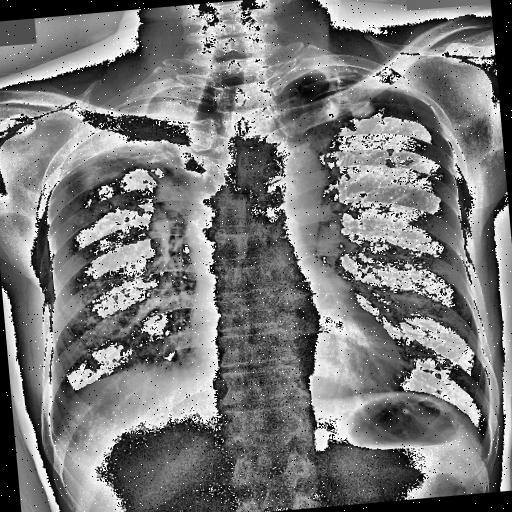1- Atelectasis: (56, 90, 210, 164)
11- Pleural thickening: (48, 88, 216, 182), (52, 92, 186, 156), (320, 57, 384, 84)
13- Pulmonary fibrosis: (62, 122, 194, 234), (66, 257, 186, 366), (61, 158, 168, 250), (63, 144, 184, 224), (316, 84, 413, 174), (322, 72, 378, 134), (378, 144, 416, 170), (438, 184, 451, 196)
2- Calcification: (63, 144, 184, 224), (316, 84, 413, 174), (78, 258, 150, 350), (322, 72, 378, 134), (384, 146, 416, 168)
7- Lung Opacity: (52, 92, 186, 156)
8- Nodule-Mass: (66, 257, 186, 366), (61, 158, 168, 250), (348, 100, 375, 120), (324, 100, 339, 122)
